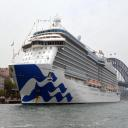cruises: (8, 13, 122, 108)
